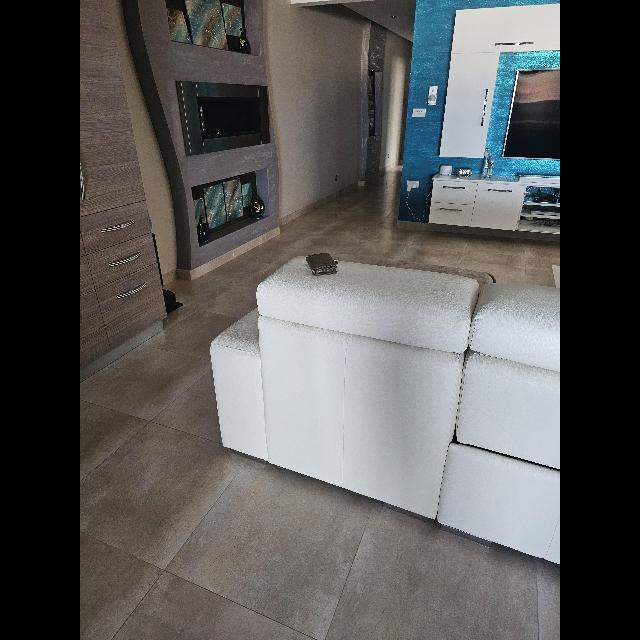Wallet: (306, 253, 338, 275)
